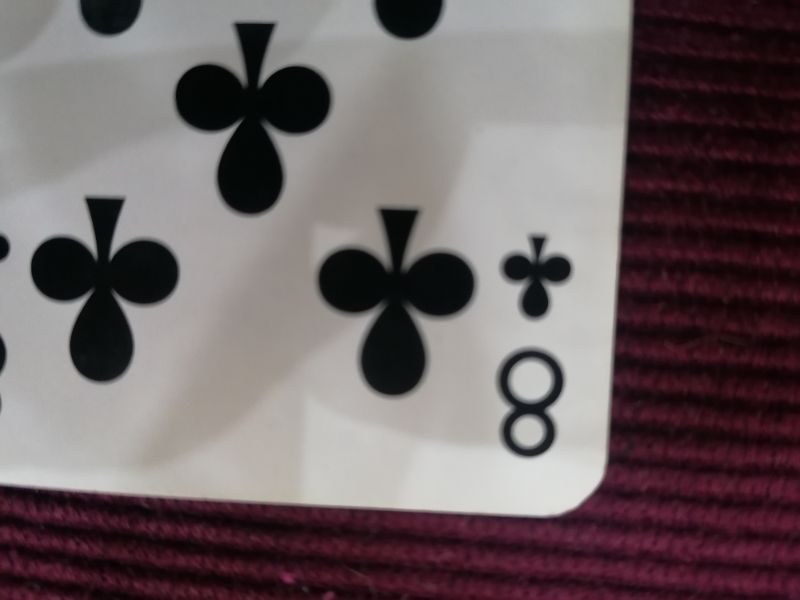8c: (488, 224, 578, 461)
